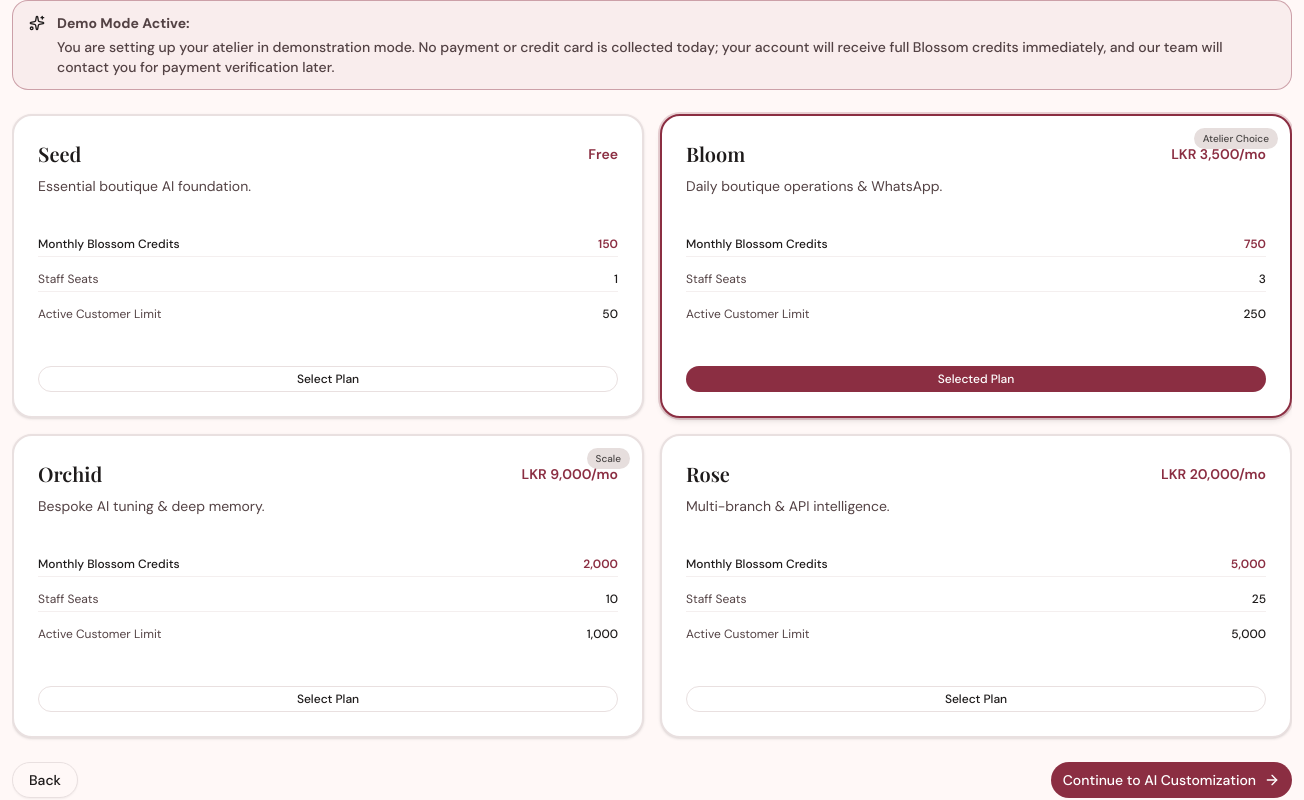
PlanSelectionStep › renders the server price returned for the selected tier
Expected: the text "LKR 3,500/mo" is shown, x1=1171 y1=144 x2=1266 y2=164
Click the button "Continue to AI Customization".
click(1171, 780)  # box x1=1051 y1=762 x2=1292 y2=798
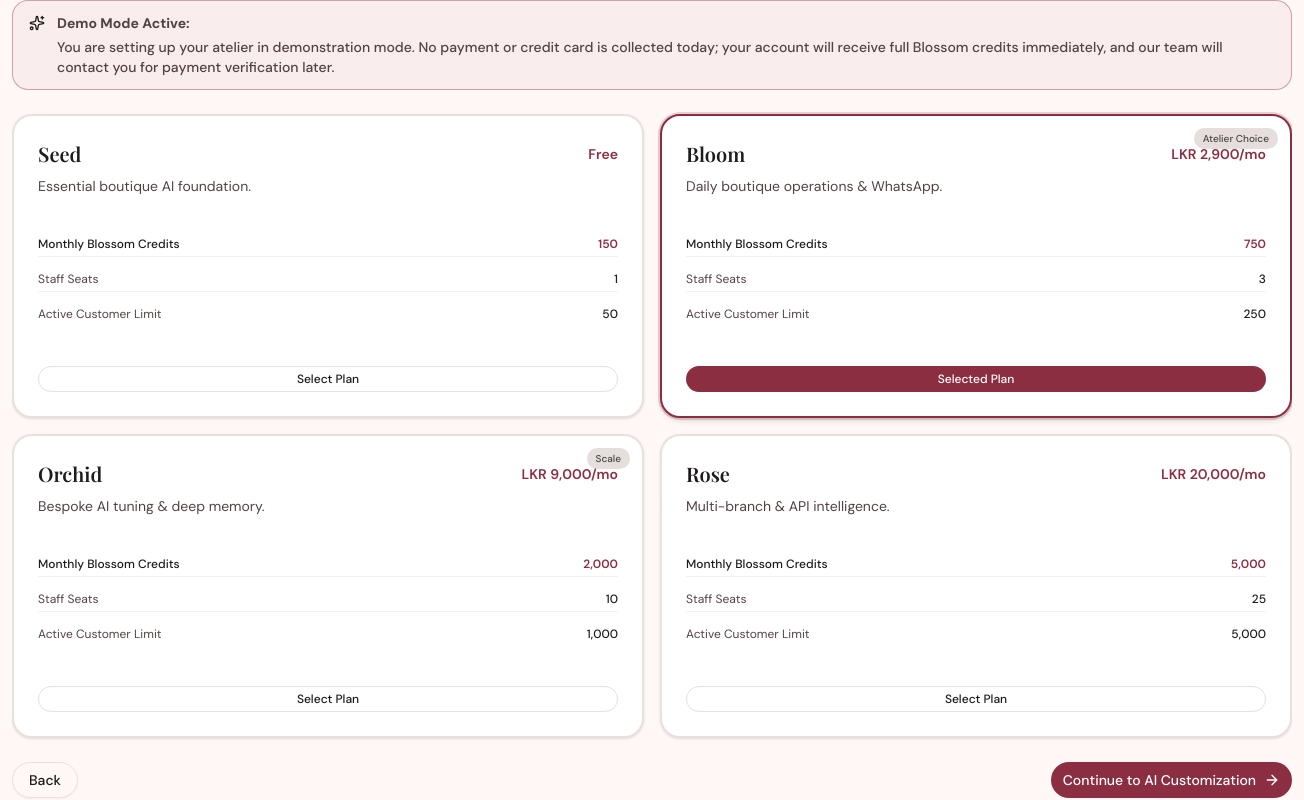
Result: the text "LKR 2,900/mo" is shown at x1=1171 y1=144 x2=1266 y2=164
Result: the text "LKR 3,500/mo" is gone
